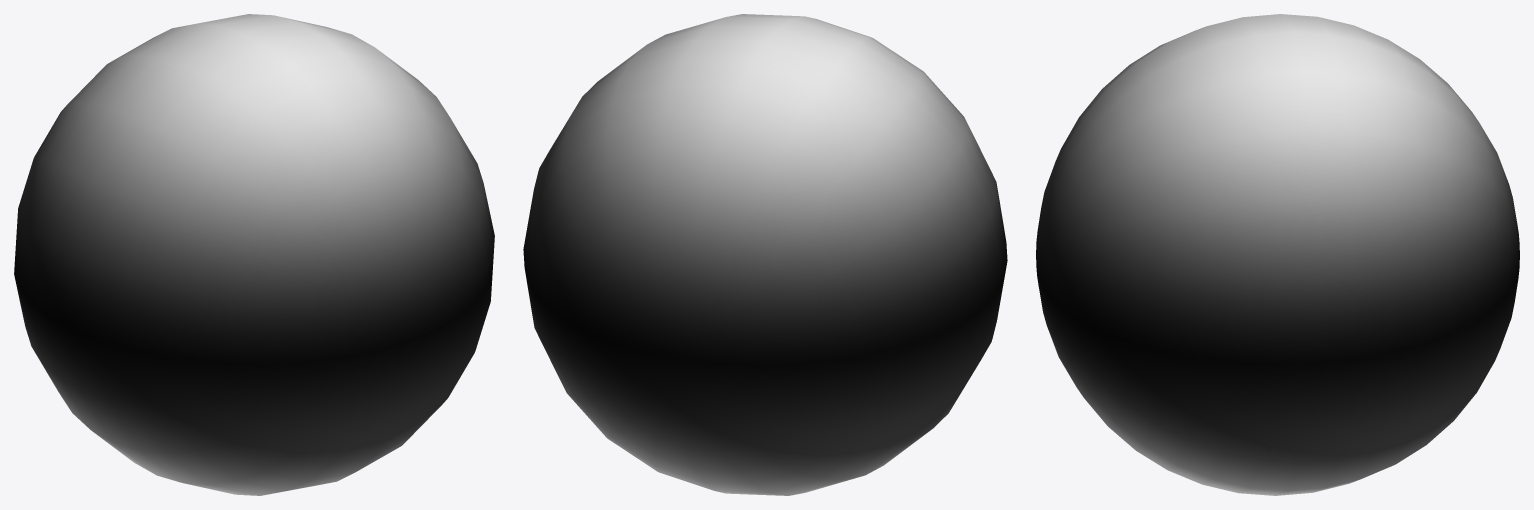
Rendered from eyeball.fbx.
The picture shows the model from 3 angles, left to right: view 1: azimuth 30°, elevation 25°; view 2: azimuth 150°, elevation 25°; view 3: azimuth 270°, elevation 25°; orthographic projection.
Visible parts, largest first — view 1: pSphere1; view 2: pSphere1; view 3: pSphere1.
Boxes of the visible parts, box(x1,y1,x2,y2) form: pSphere1: box(14, 14, 494, 495); pSphere1: box(523, 14, 1007, 495); pSphere1: box(1036, 14, 1519, 495).
Bounding box in the file's own units: 3.8 × 3.79 × 3.8.
Materials: 1 (1 with a texture image).
